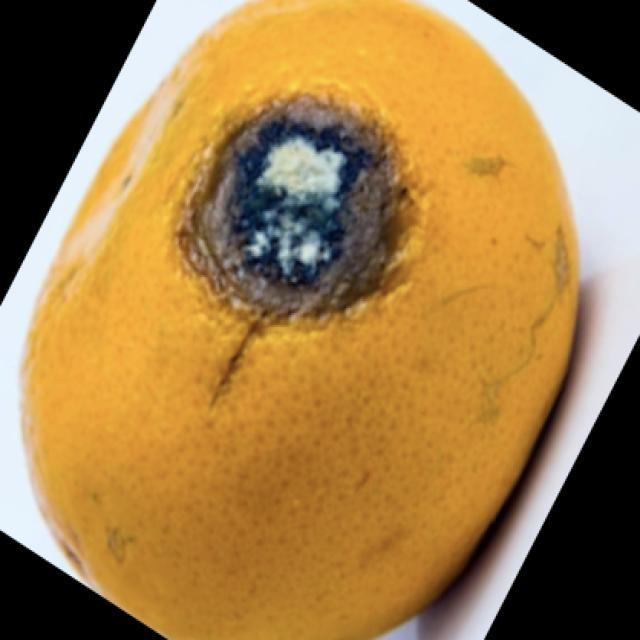sedikit-busuk: (24, 0, 577, 639)
